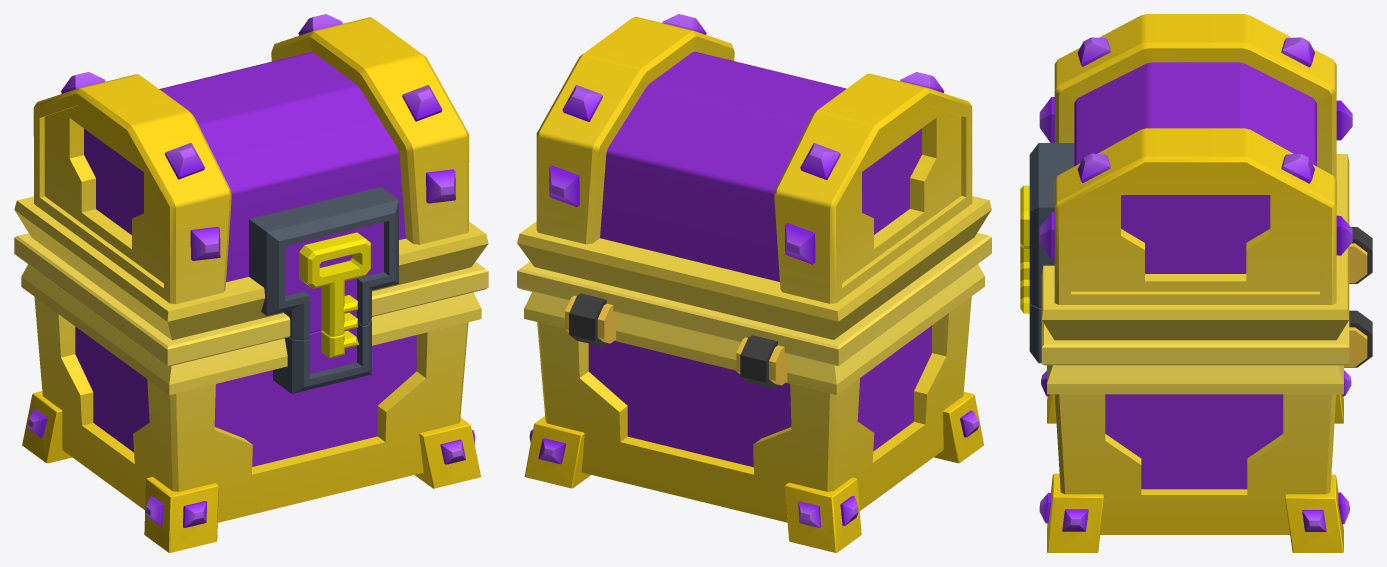
Rendered from chest box for Key1+1.fbx.
3 renders of one model, left to right at view 1: azimuth 30°, elevation 25°; view 2: azimuth 150°, elevation 25°; view 3: azimuth 270°, elevation 25°, orthographic.
Parts seen in each view (by area): view 1: TOp, Base; view 2: TOp, Base; view 3: TOp, Base.
Boxes of the visible parts, x1=… form: TOp: x1=14, y1=14, x2=488, y2=366; Base: x1=21, y1=264, x2=481, y2=552; TOp: x1=517, y1=14, x2=991, y2=366; Base: x1=524, y1=264, x2=984, y2=552; TOp: x1=1020, y1=14, x2=1352, y2=365; Base: x1=1020, y1=227, x2=1372, y2=552.
Size of the model in its own units: 386 by 441 by 361.
